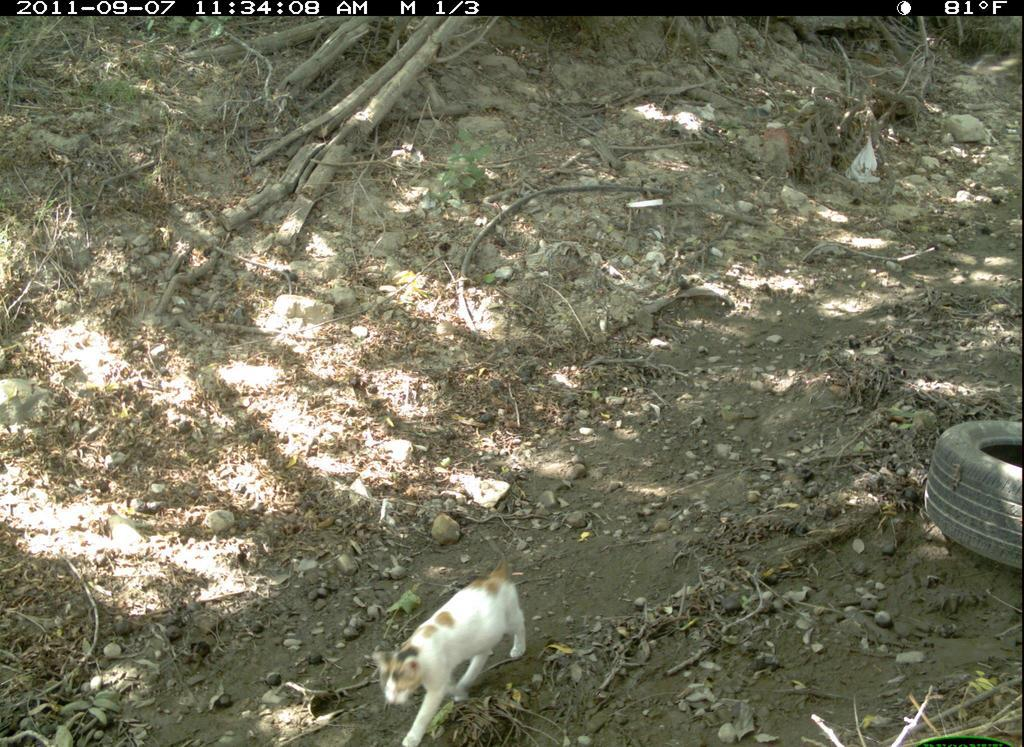cat: (367, 542, 560, 747)
